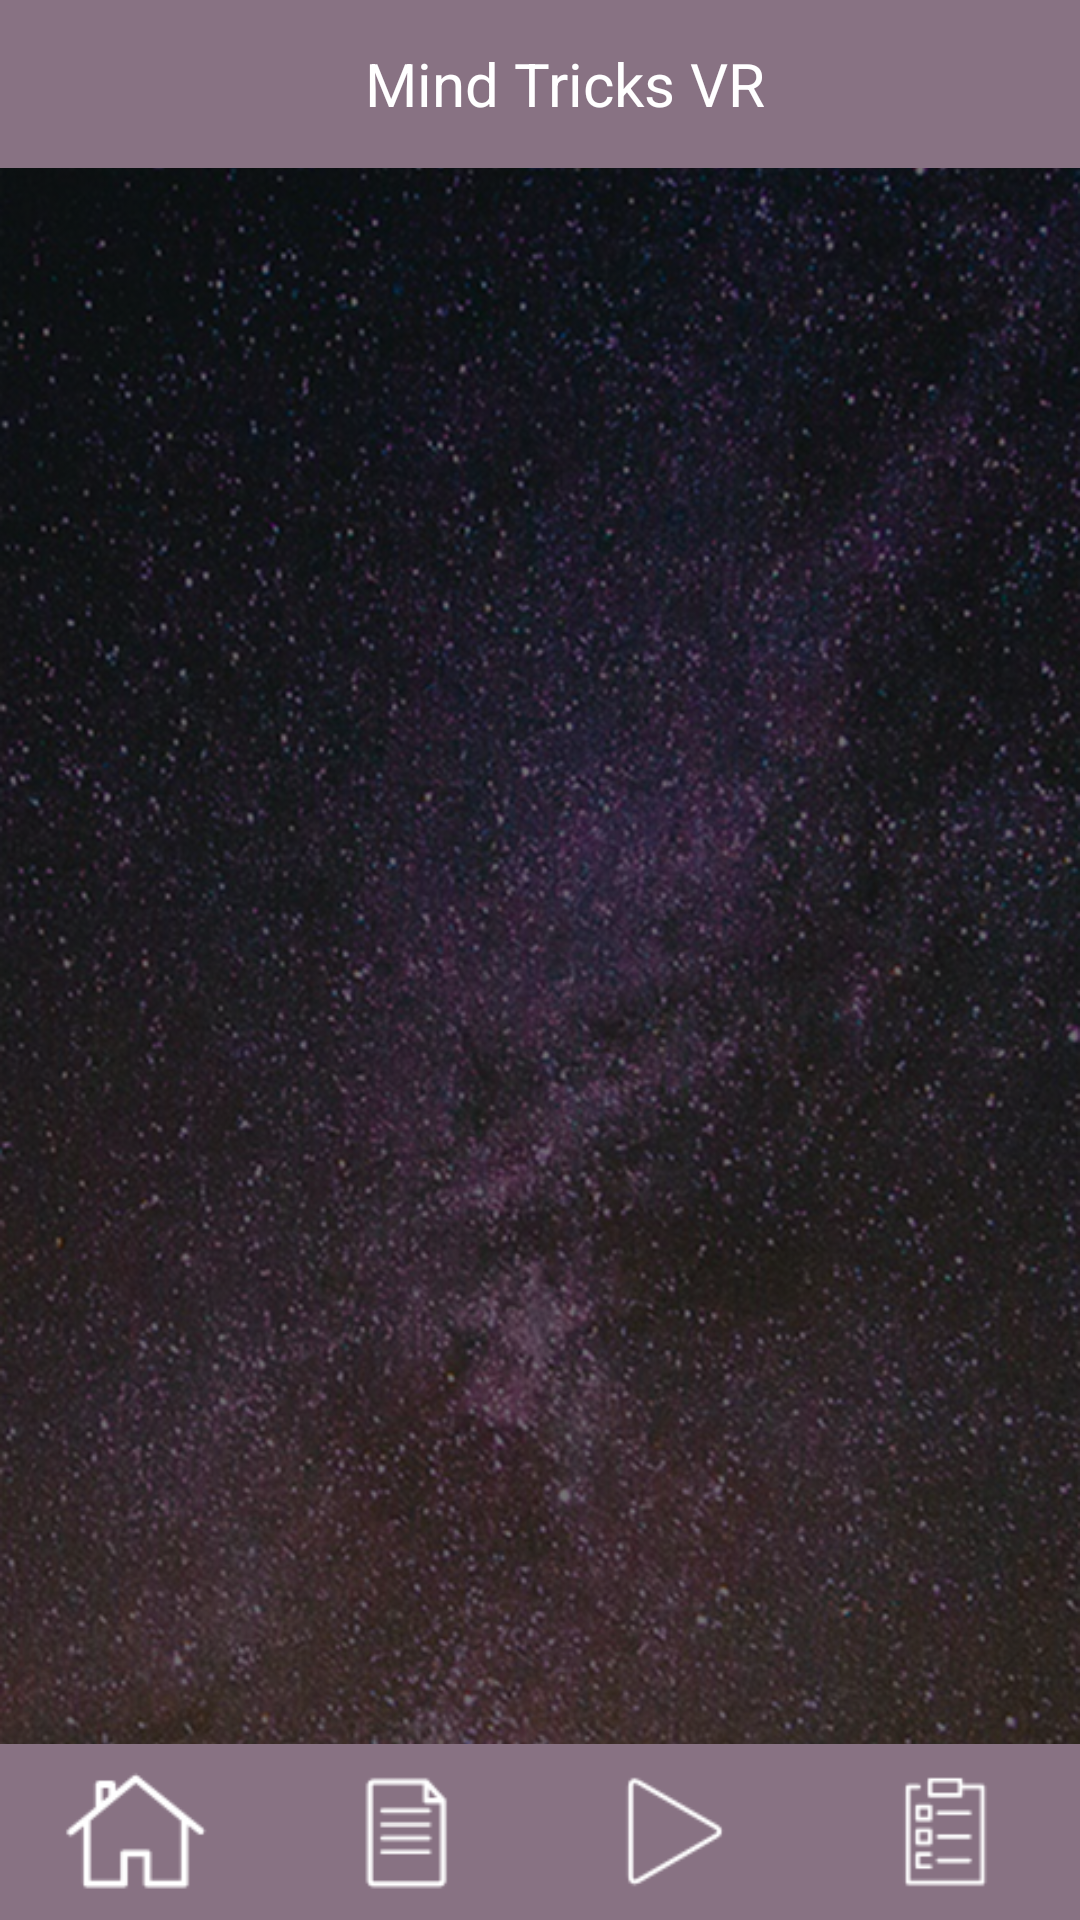

Named icons in this screenshot (1080w x 1920h) and their bounding boxes, (x1, y1, x2, y2):
home: (66, 1774, 205, 1889)
play: (627, 1778, 722, 1886)
